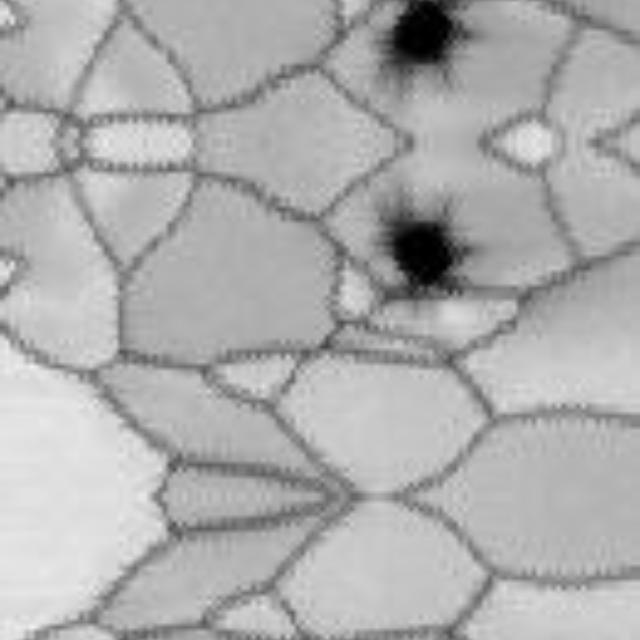good_void: (357, 177, 489, 306)
